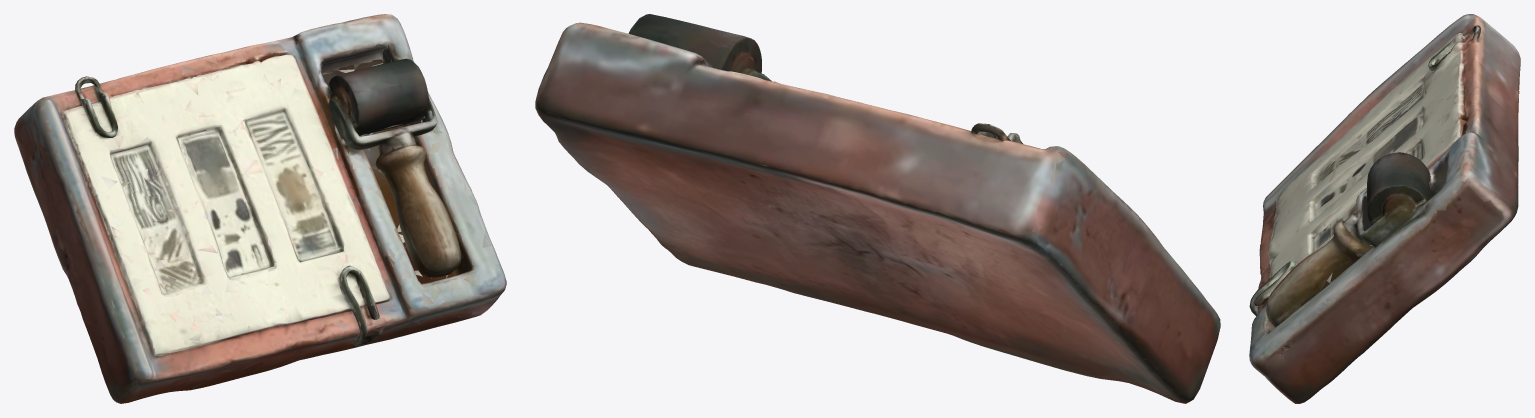
The model's file is sc-press-tray.glb.
The picture shows the model from 3 angles, left to right: view 1: azimuth 30°, elevation 25°; view 2: azimuth 150°, elevation 25°; view 3: azimuth 270°, elevation 25°; orthographic projection. The views are drawn at different scales.
Parts seen in each view (by area): view 1: geometry_0; view 2: geometry_0; view 3: geometry_0.
Part boxes in pixels (x1,y1,x2,y2): geometry_0: (14,14,506,403); geometry_0: (535,14,1220,403); geometry_0: (1249,14,1520,403).
Size of the model in its own units: 1 by 0.6453 by 0.6567.
1 material, 1 textured.
